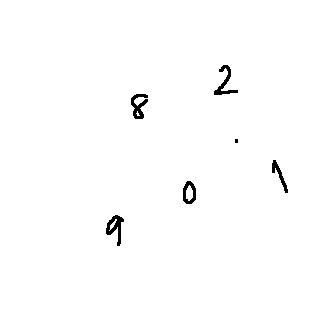.: (227, 130, 247, 151)
0: (178, 173, 200, 225)
1: (262, 158, 293, 196)
2: (209, 60, 247, 103)
8: (124, 86, 161, 124)
9: (103, 203, 129, 253)
